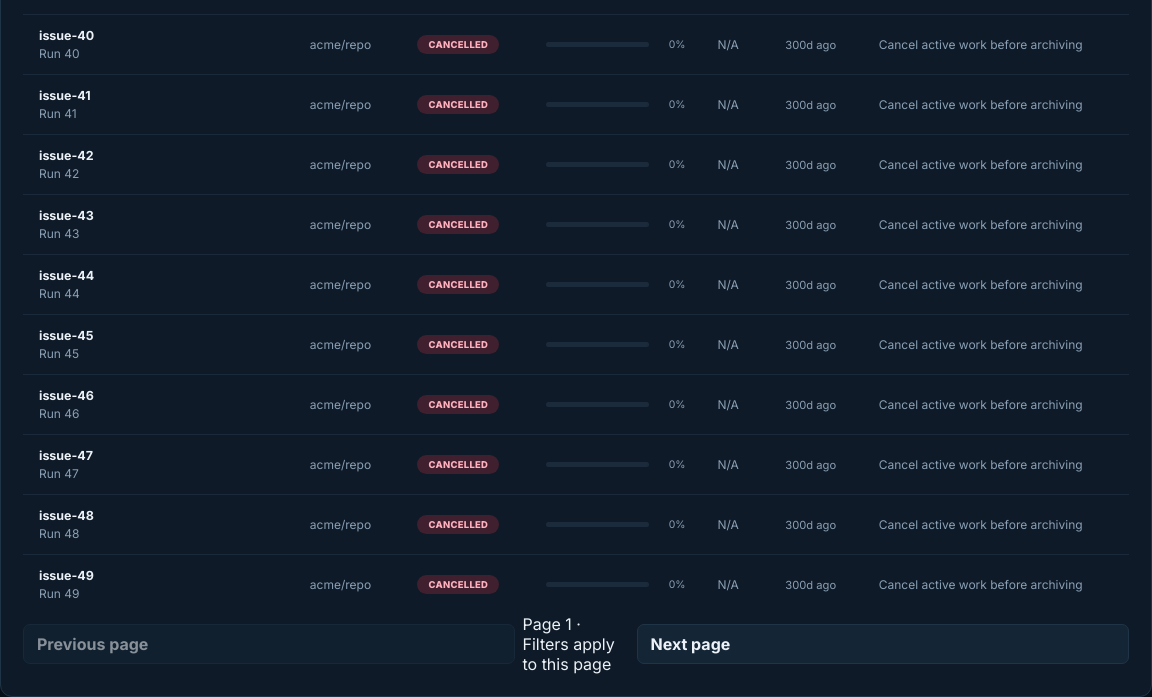
loads the requested history page and resets pagination when changing archive selection
(page scrolled)
Click the button "Next page" at (690, 644), box [636,624,1129,664]
(page scrolled)
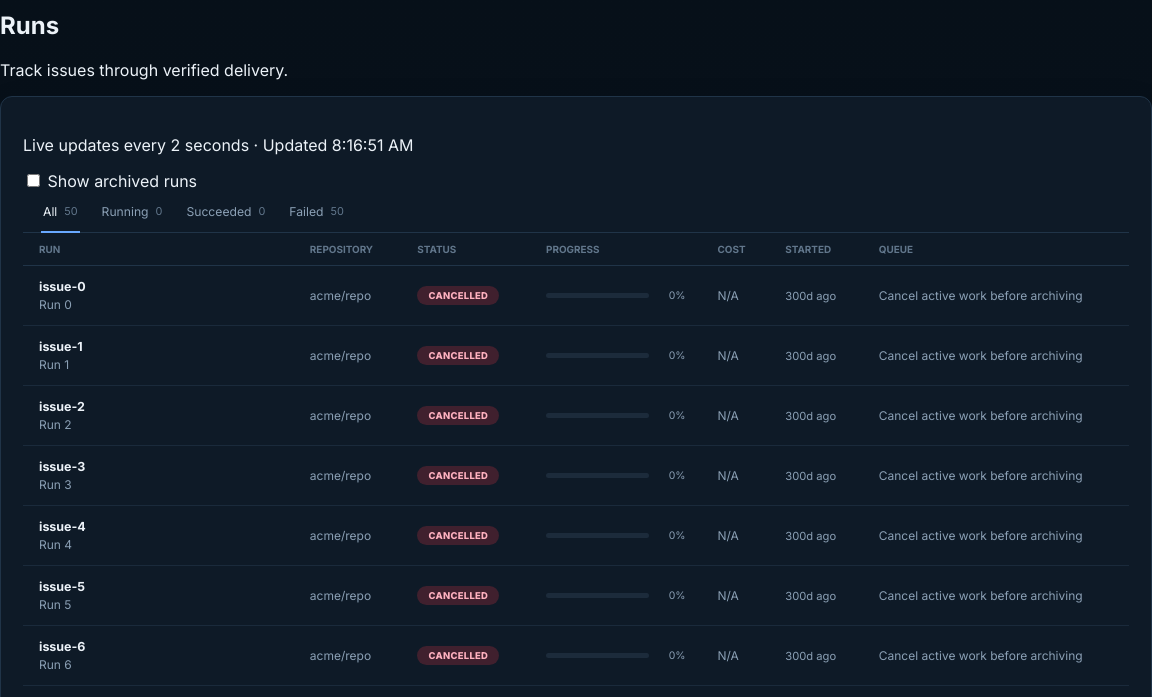
Click the checkbox labelled "Show archived runs" at (34, 180), box [27,174,40,187]
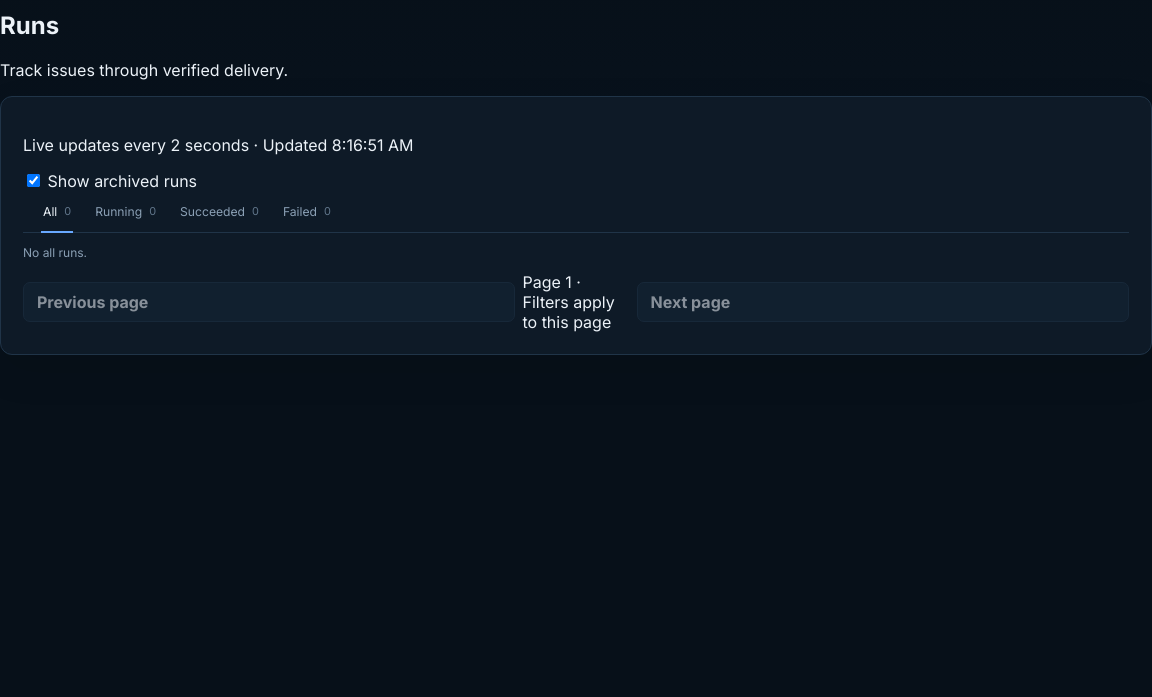
expect the button "Previous page" is disabled: met, box [23,282,516,322]
